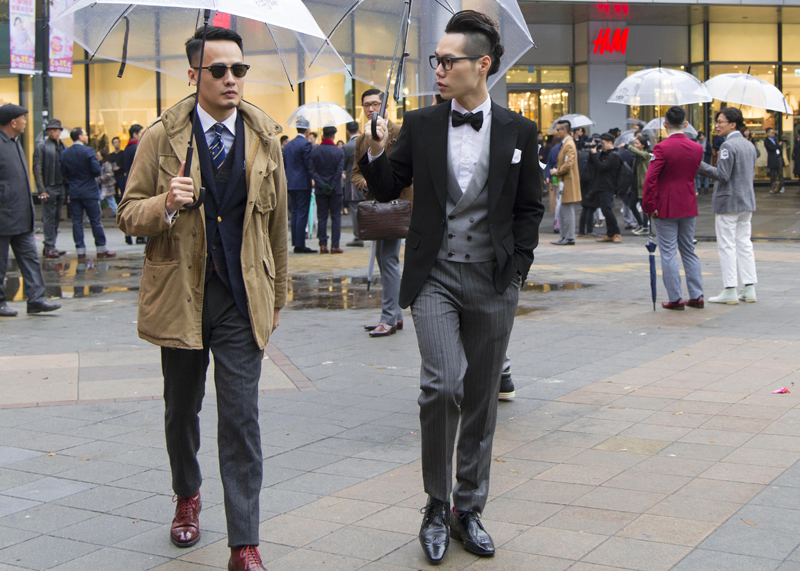feet: (162, 477, 281, 571), (404, 476, 503, 571), (702, 275, 757, 311), (660, 281, 710, 320), (359, 303, 408, 340), (1, 290, 66, 316), (73, 245, 121, 269), (593, 220, 625, 248), (39, 240, 69, 263), (553, 223, 578, 247), (120, 228, 149, 246), (318, 239, 341, 257), (291, 242, 316, 258), (766, 177, 787, 194), (630, 221, 653, 236)
